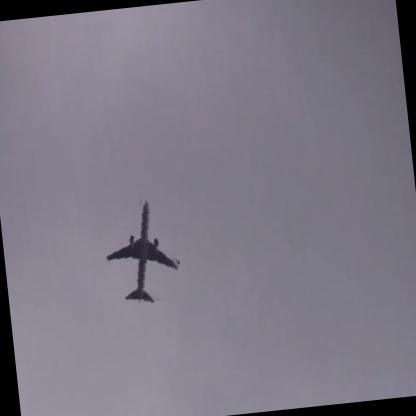plane: (96, 192, 187, 307)
